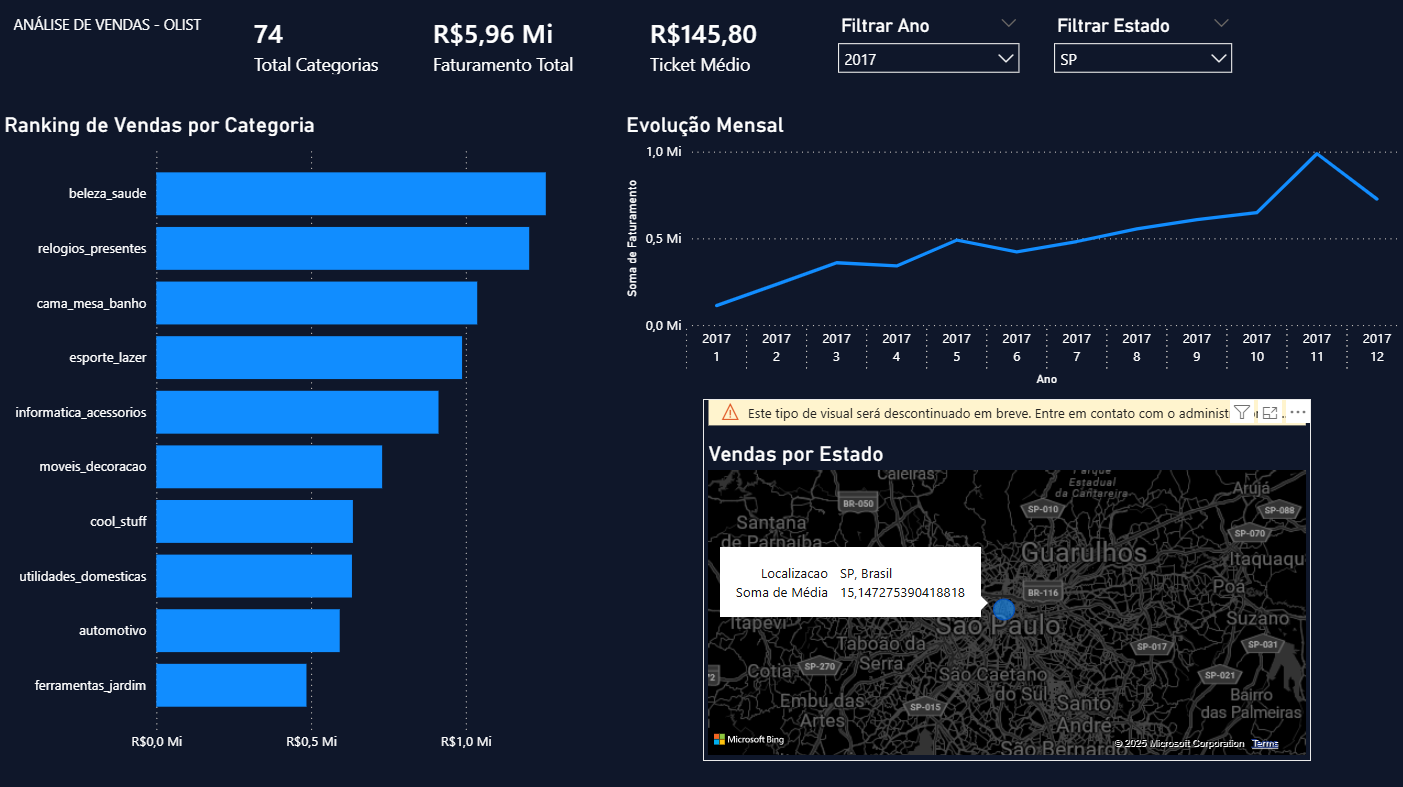

The page's visual inventory and layout, read from the dashboard file:
{"tool":"powerbi","page":{"name":"Página 1","canvas":[1280,720],"ordinal":0},"visuals":[{"type":"clusteredBarChart","title":"Ranking de Vendas por Categoria ","fields":{"Category":["vw_Faturamento_Categoria.Categoria"],"Y":["Sum(vw_Faturamento_Categoria.Faturamento_Total)"]},"box":[0,105.4,565.9,590.2],"z":0},{"type":"lineChart","title":"Evolução Mensal","fields":{"Category":["Faturamento_Anual_Mensal.Mes","Faturamento_Anual_Mensal.Ano"],"Y":["Sum(Faturamento_Anual_Mensal.Faturamento)"]},"box":[565.9,105.4,714.1,253.7],"z":1000},{"type":"map","title":"Vendas por Estado","fields":{"Size":["Sum(vw_Media_Frete_Estado.Média)"],"Category":["vw_Media_Frete_Estado.Localizacao"]},"box":[640,366.4,552.7,329.1],"z":2000},{"type":"slicer","title":"Filtro por Estado","fields":{"Values":["vw_Media_Frete_Estado.customer_state"]},"box":[949.3,11.7,182.4,69.3],"z":3000},{"type":"slicer","fields":{"Values":["Faturamento_Anual_Mensal.Ano"]},"box":[753.2,11.7,185.4,84.9],"z":4000},{"type":"cardVisual","fields":{"Data":["_Medidas.Faturamento Total"]},"box":[365.9,0,219.5,88.8],"z":5000},{"type":"cardVisual","fields":{"Data":["_Medidas.Ticket_Medio"]},"box":[562.9,0,190.2,88.8],"z":6000},{"type":"cardVisual","fields":{"Data":["_Medidas.TotalCategorias"]},"box":[202.9,0,173.7,88.8],"z":7000},{"type":"textbox","box":[7.8,11.7,233.2,34.1],"z":8000}]}

Visuals, with their boxes in screenshot pixels (x1, y1, x2, y2), scaled from the page's 1280x720 canvas onto the 1403x787 screenshot:
"Ranking de Vendas por Categoria " clusteredBarChart: bbox(0, 115, 620, 760)
"Evolução Mensal" lineChart: bbox(620, 115, 1402, 393)
"Vendas por Estado" map: bbox(702, 400, 1307, 760)
"Filtro por Estado" slicer: bbox(1041, 13, 1240, 89)
slicer - Faturamento_Anual_Mensal.Ano: bbox(826, 13, 1029, 106)
cardVisual - _Medidas.Faturamento Total: bbox(401, 0, 642, 97)
cardVisual - _Medidas.Ticket_Medio: bbox(617, 0, 825, 97)
cardVisual - _Medidas.TotalCategorias: bbox(222, 0, 413, 97)
textbox: bbox(9, 13, 264, 50)
